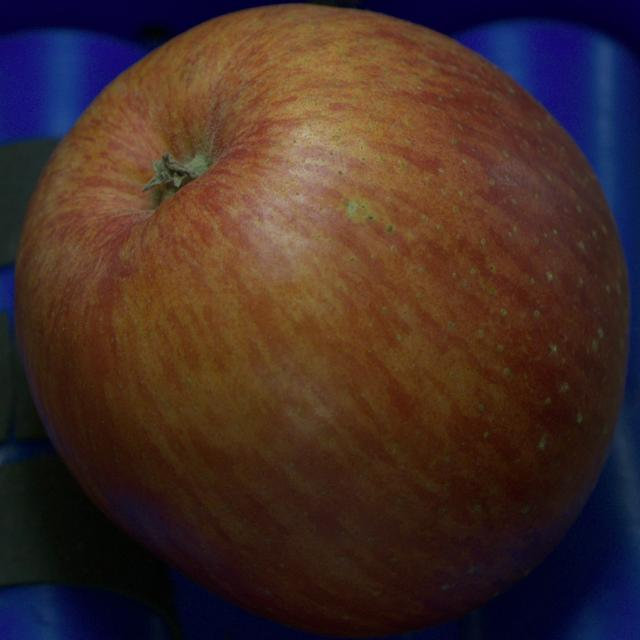apple: (15, 4, 630, 636)
